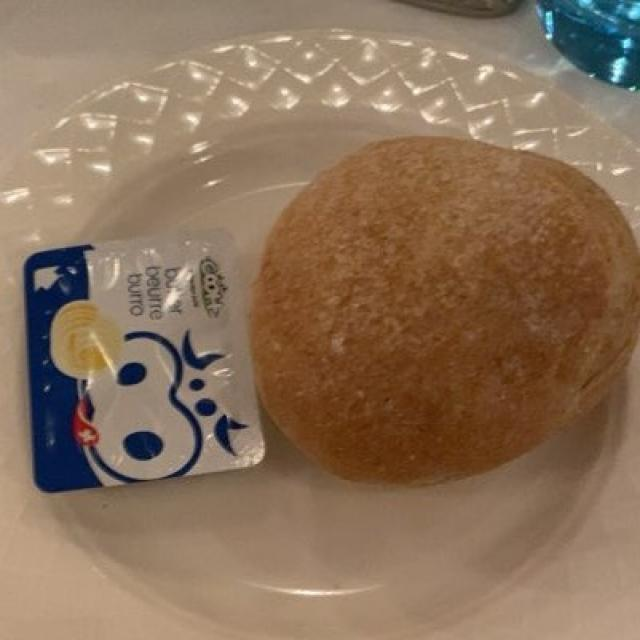bread: (251, 143, 626, 484)
butter: (18, 217, 270, 492)
